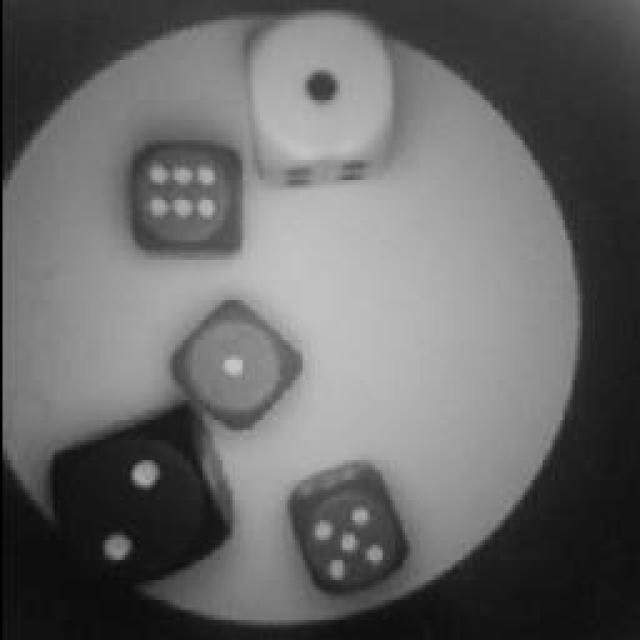dice_1: (242, 8, 402, 182), (168, 302, 300, 432)
dice_2: (42, 412, 228, 592)
dice_5: (282, 472, 400, 590)
dice_6: (122, 135, 242, 263)
